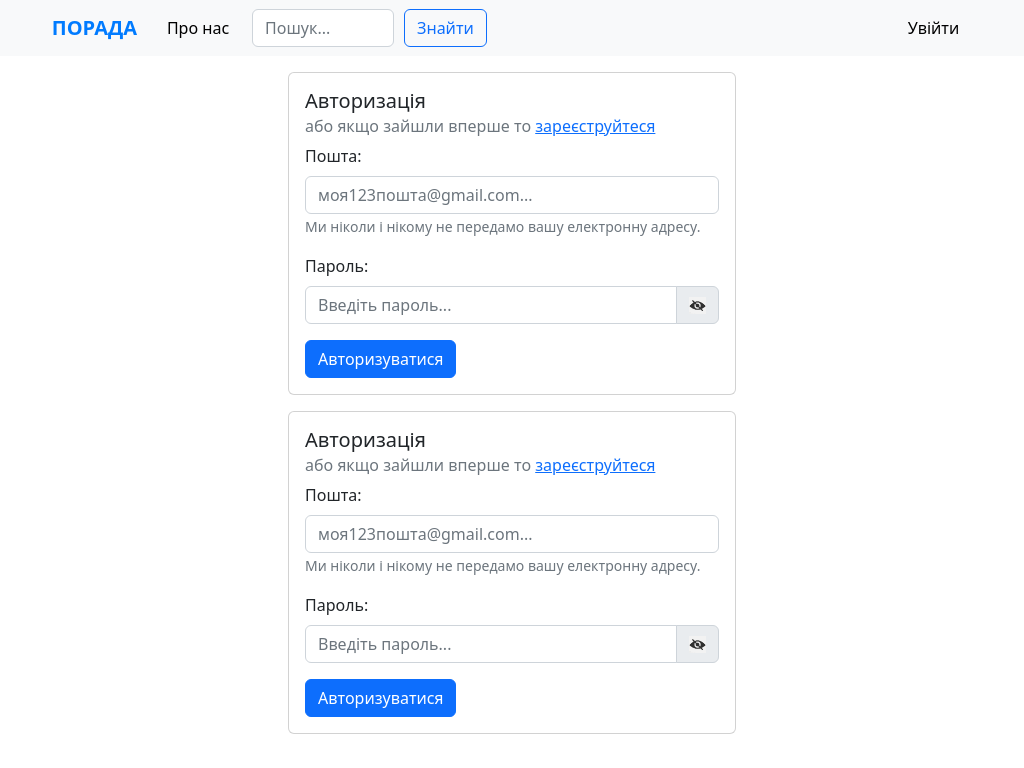
Test case: AppRouter testing Search › Search page
The image size is (1024, 768).
Click the button "Знайти" at (445,28), box [404,9,487,47]
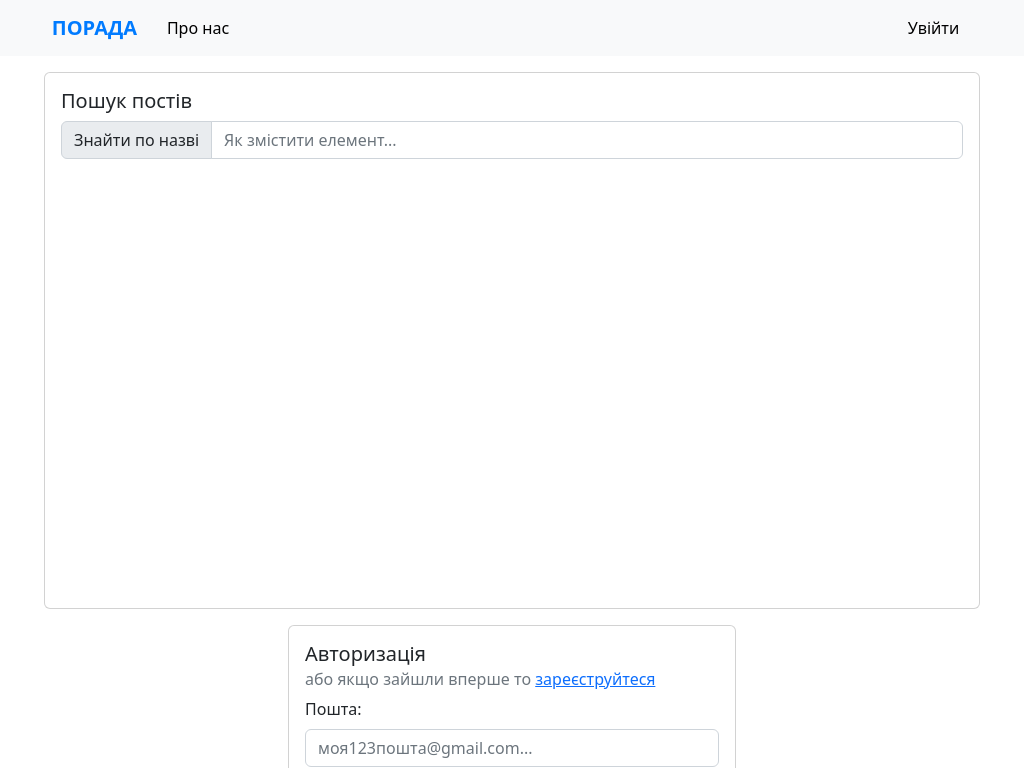
Expected: the text "Пошук постів" is shown, [61,87,192,114]
Expected: the text "Знайти по назві" is shown, [61,121,212,159]
